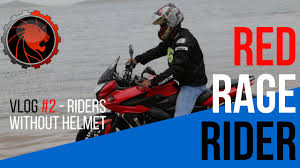helmet: (147, 3, 188, 44)
